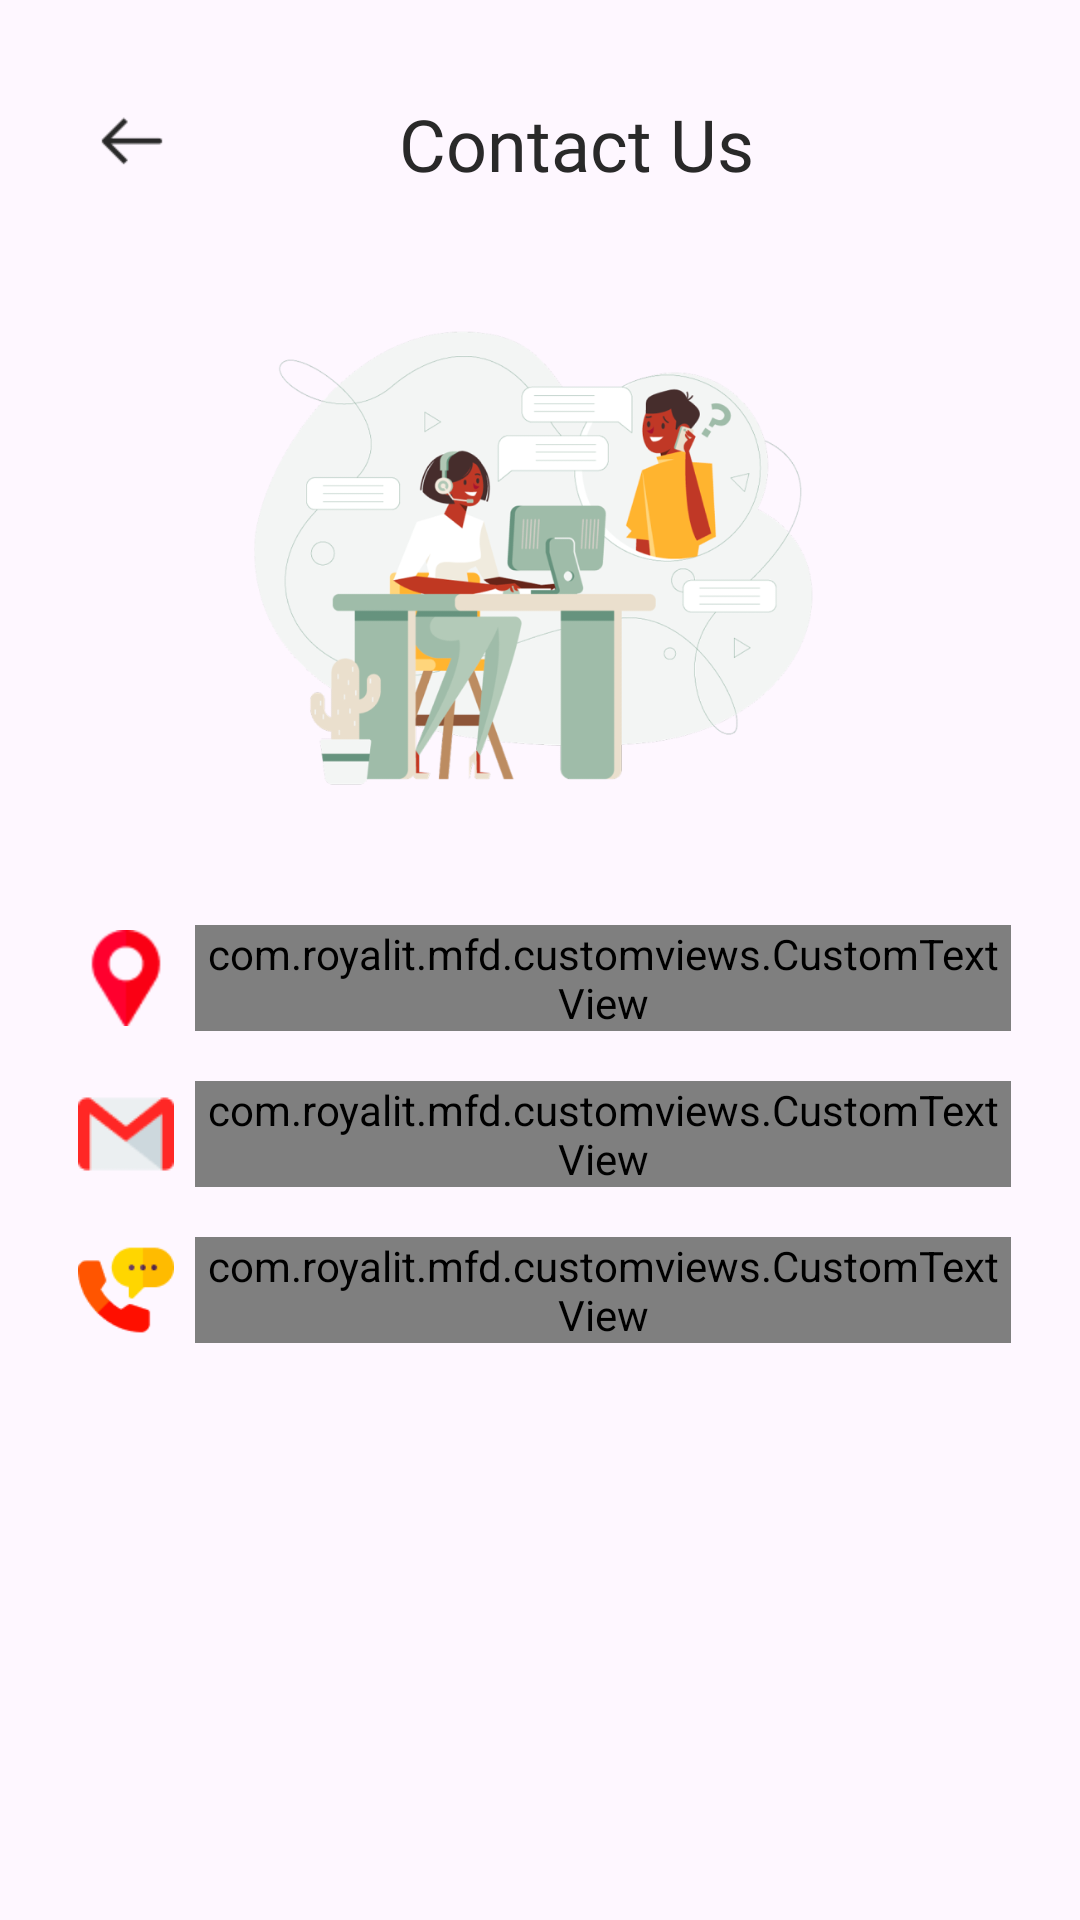

Icons on this 1080px×1920px Android screen, each with the point to tap as point (x, y):
arrow left: point (132, 140)
call: point (126, 1290)
marker: point (126, 978)
